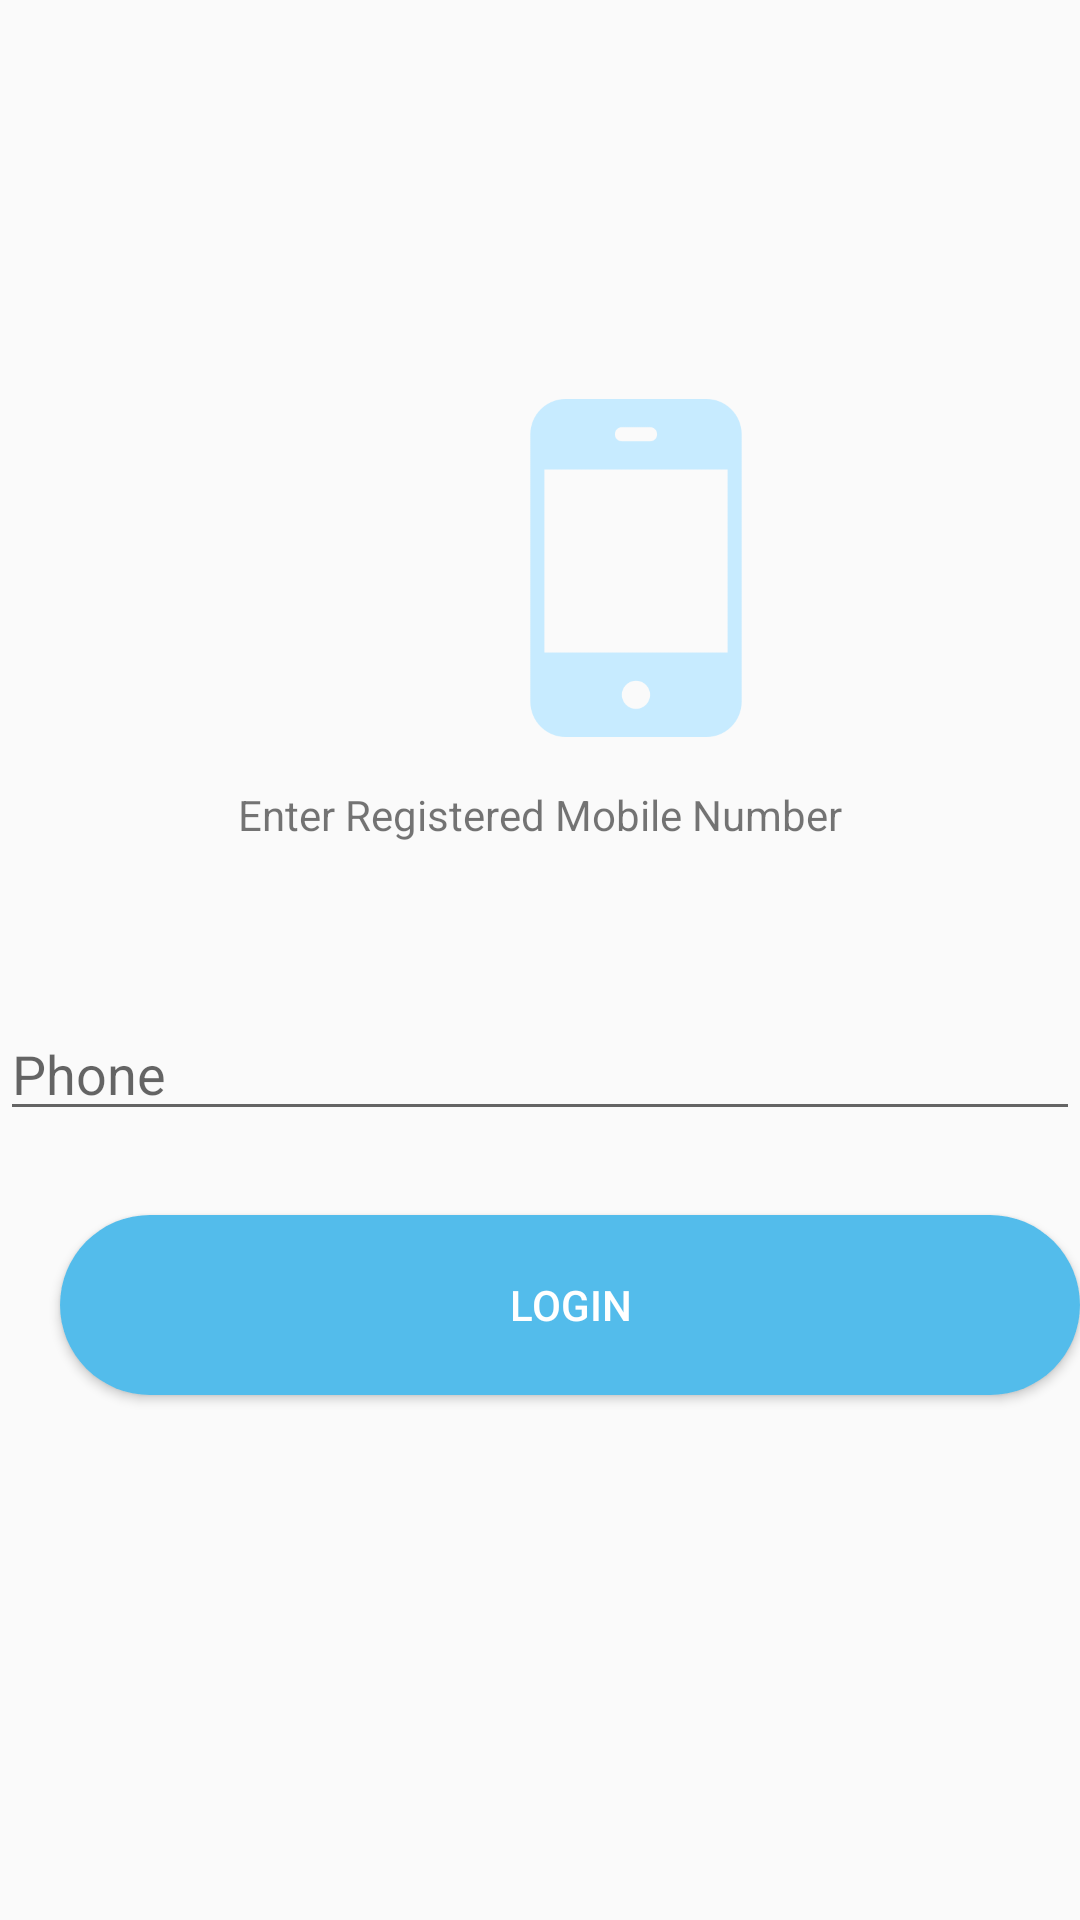

Icons on this 1080px x 1920px Android screen, each with the point to tap as (x,y):
smartphone: (636,568)
